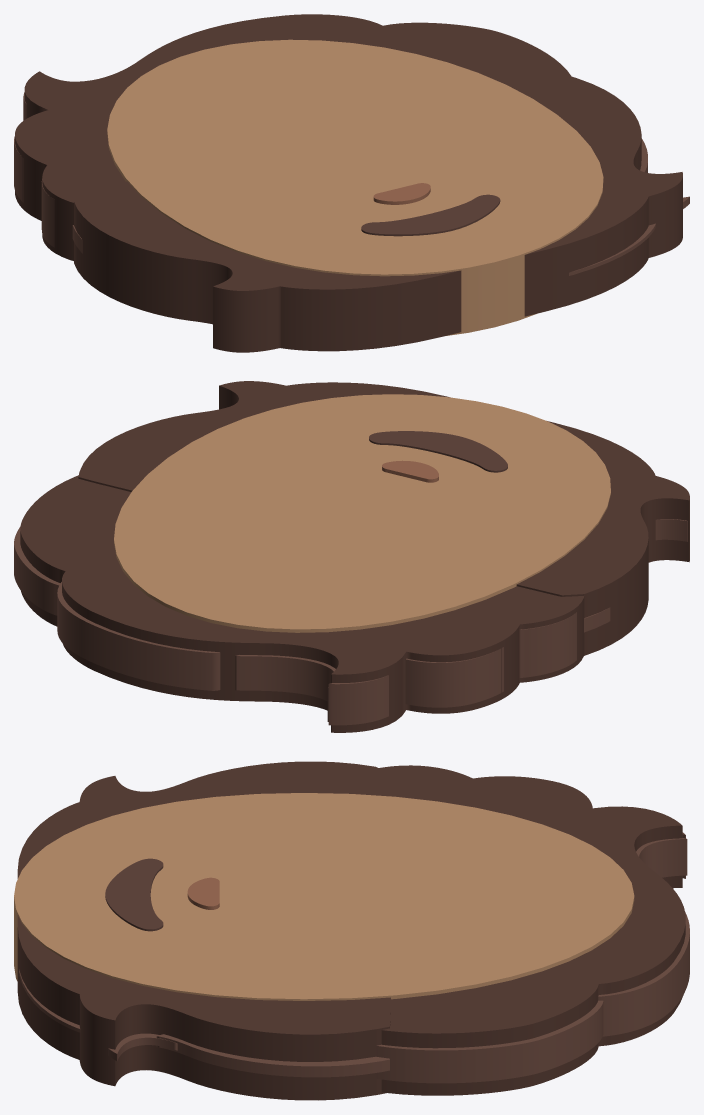
Rendered from emoji_u1f9d1_1f3fd.glb.
3 views of the same model, one above another, from view 1: azimuth 30°, elevation 25°; view 2: azimuth 150°, elevation 25°; view 3: azimuth 270°, elevation 25° (orthographic). The views are drawn at different scales.
Parts seen in each view (by area): view 1: emoji_u1f9d1_1f3fd; view 2: emoji_u1f9d1_1f3fd; view 3: emoji_u1f9d1_1f3fd.
Boxes of the visible parts, x1=… form: emoji_u1f9d1_1f3fd: x1=14, y1=14, x2=689, y2=352; emoji_u1f9d1_1f3fd: x1=14, y1=381, x2=689, y2=732; emoji_u1f9d1_1f3fd: x1=14, y1=761, x2=689, y2=1100.
Bounding box in the file's own units: 0.0325 × 0.0042 × 0.0335.
